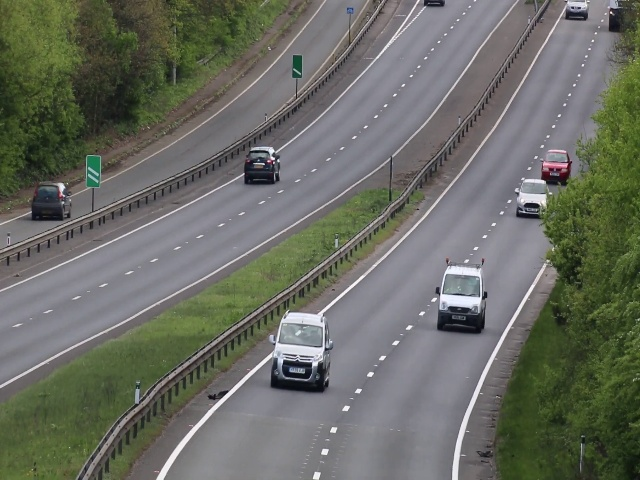car: (272, 309, 331, 391), (438, 262, 488, 335), (29, 179, 73, 220), (243, 144, 282, 186), (515, 177, 551, 217), (541, 146, 570, 184), (566, 1, 587, 20)
